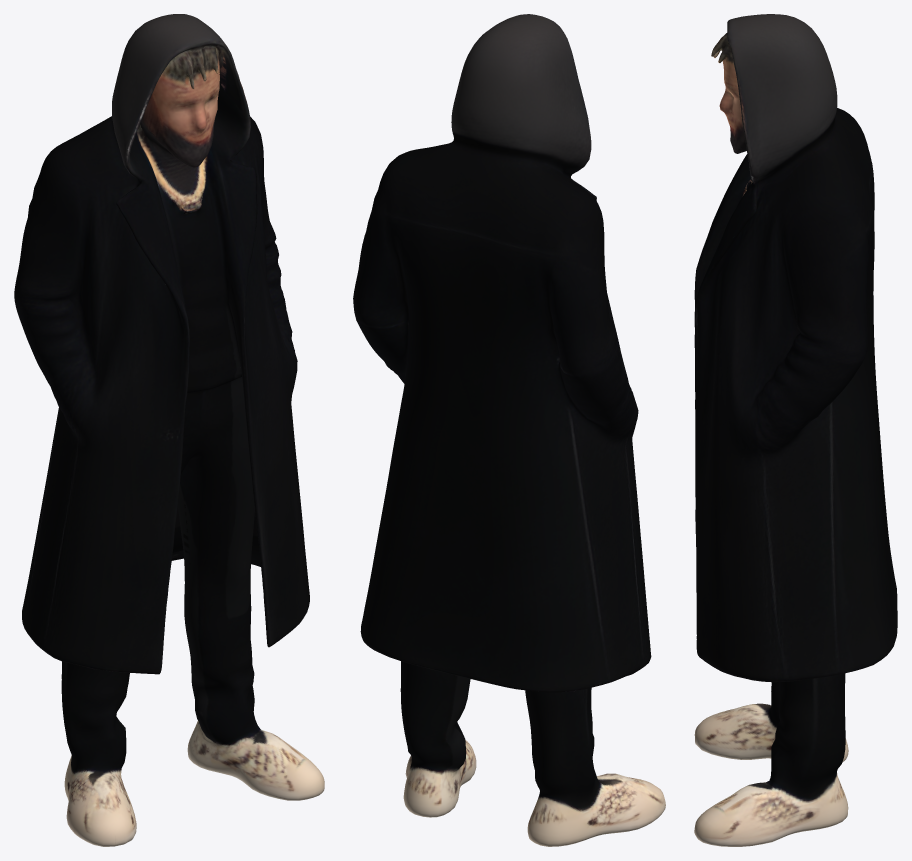
Rendered from cybermannequin.glb.
3 views of the same model, side by side, from view 1: azimuth 30°, elevation 25°; view 2: azimuth 150°, elevation 25°; view 3: azimuth 270°, elevation 25° (orthographic).
Visible parts, largest first — view 1: model; view 2: model; view 3: model.
Part boxes in pixels (x1=…): model: x1=14, y1=14, x2=324, y2=846; model: x1=353, y1=14, x2=665, y2=846; model: x1=694, y1=14, x2=897, y2=846.
Size of the model in its own units: 0.6686 by 1.91 by 0.455.
Materials: 1 (1 with a texture image).
